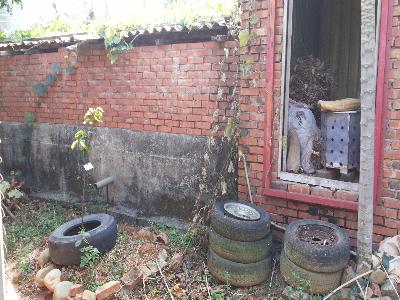tire: (283, 218, 352, 274), (48, 213, 118, 267), (279, 248, 344, 296), (207, 248, 274, 287), (211, 199, 271, 242), (208, 229, 273, 264)
